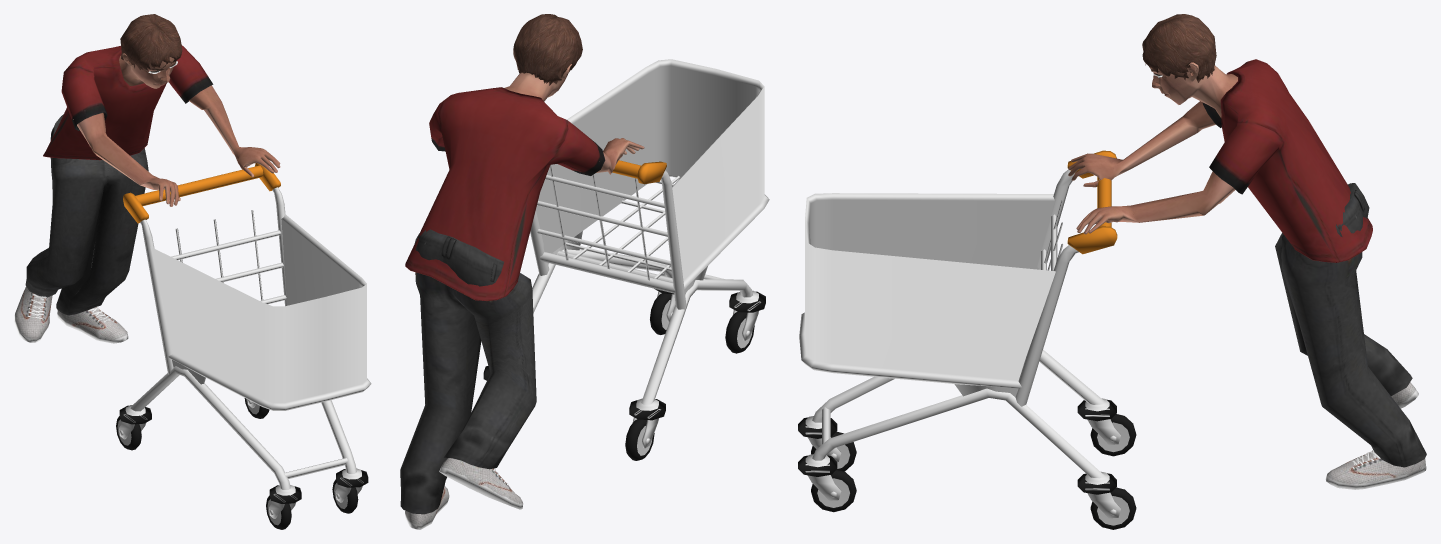
File: pushing human.fbx
3 renders of one model, left to right at view 1: azimuth 30°, elevation 25°; view 2: azimuth 150°, elevation 25°; view 3: azimuth 270°, elevation 25°, orthographic. The views are drawn at different scales.
Visible parts, largest first — view 1: polySurface462, boy4; view 2: boy4, polySurface462; view 3: polySurface462, boy4.
Boxes of the visible parts, x1,y1,x2,y2 form: polySurface462: [116, 163, 371, 529]; boy4: [14, 14, 280, 343]; boy4: [400, 14, 644, 529]; polySurface462: [483, 59, 769, 460]; polySurface462: [798, 150, 1136, 529]; boy4: [1068, 14, 1426, 489].
Size of the model in its own units: 0.8005 by 1.94 by 2.36.
